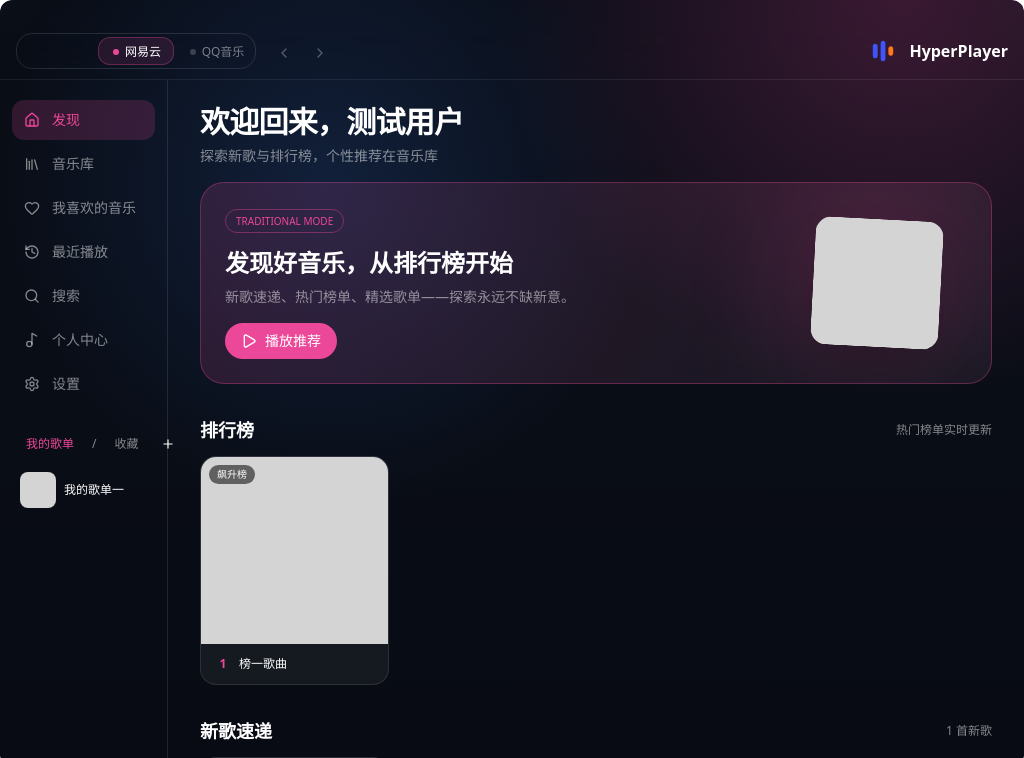
Scenario: 传统模式 TraditionalView › 左栏歌单含 我的歌单/收藏 切换与创建入口，歌单显示全量
The image size is (1024, 758).
expect the text "我的歌单一" is shown: met, box [64, 481, 124, 498]
Click the button "收藏" at (126, 444), box [104, 432, 148, 456]
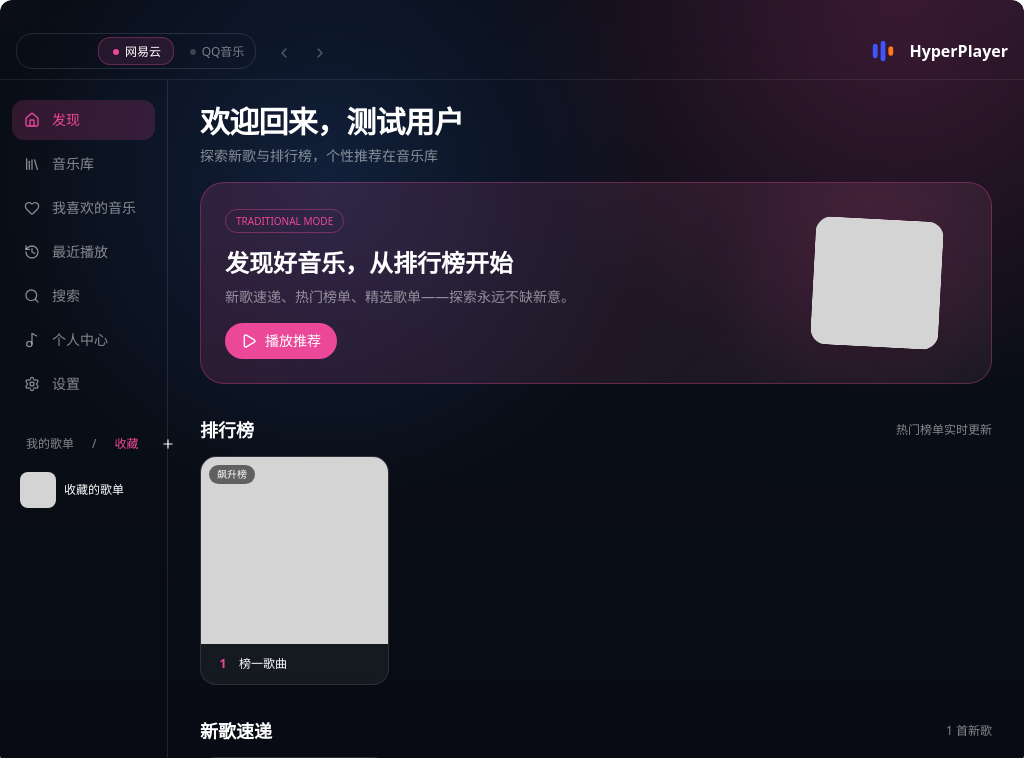
expect the button named "创建歌单" is shown: met, box [156, 433, 178, 455]
expect the text "收藏的歌单" is shown: met, box [64, 481, 124, 498]
